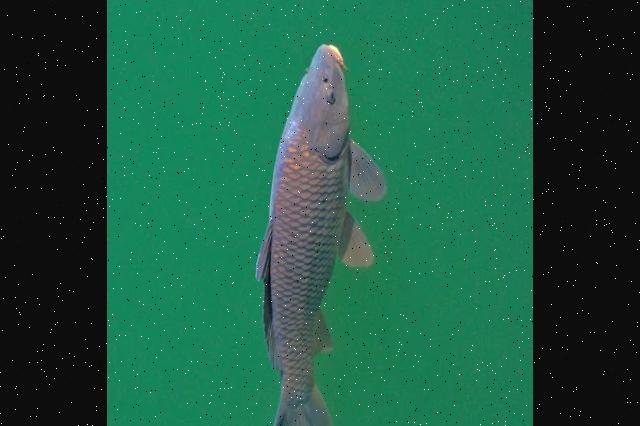Mulut: (299, 30, 361, 74)
Sirip Anal: (302, 303, 346, 359)
Sirip Dada: (341, 136, 395, 206)
Sirip Ekor: (250, 381, 343, 426)
Sirip Perut: (332, 211, 382, 273)
Sirip Punggung: (243, 227, 287, 378)
